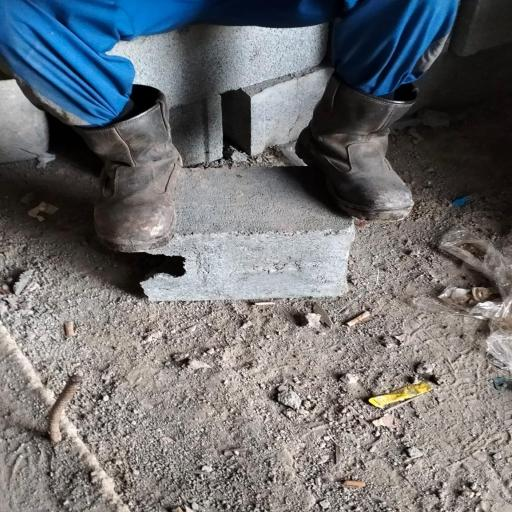safety_shoe: (292, 78, 420, 224), (60, 105, 194, 240)
